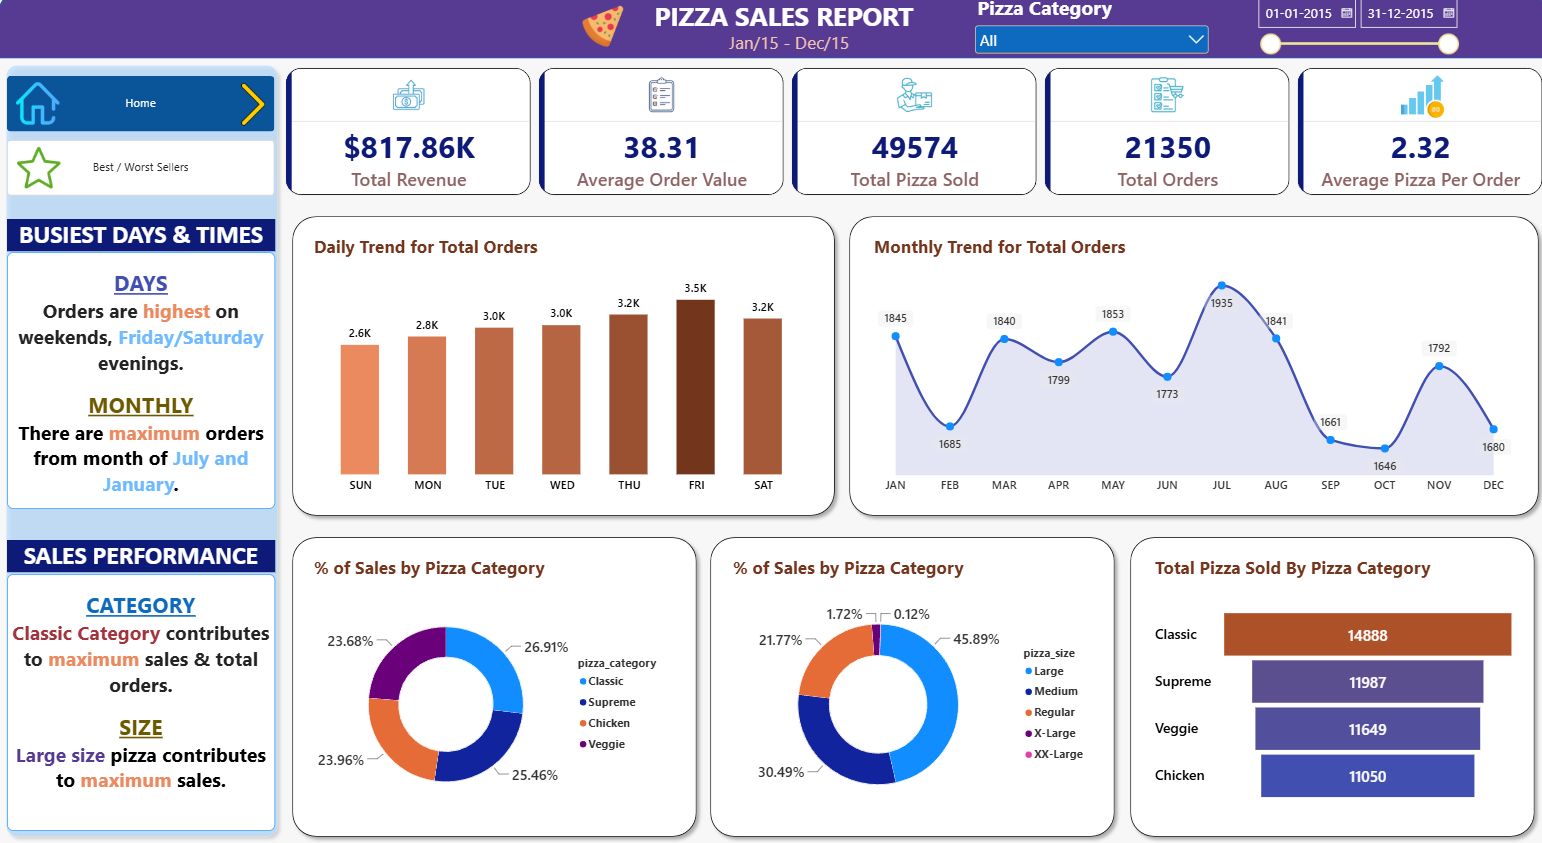

Layout of this report page (visuals, bound fields, positions):
{"tool":"powerbi","page":{"name":"Home","canvas":[1920,1080],"ordinal":0},"visuals":[{"type":"shape","box":[0,79.4,354.6,975.4],"z":0},{"type":"textbox","box":[10,0,280,280],"z":1000},{"type":"shape","box":[0,0,1920,80],"z":2000},{"type":"textbox","box":[800,4.4,350.2,46.7],"z":3000},{"type":"image","box":[714.9,13.1,68.6,52.5],"z":4000},{"type":"cardVisual","fields":{"Data":["KPIS.Total Revenue","KPIS.Average Order Value","KPIS.Total Pizza Sold","KPIS.Total Orders","KPIS.Average Pizza Per Order"]},"box":[354.5,90.5,1565.5,160.5],"z":5000},{"type":"shape","box":[354.6,266.3,691.5,389.9],"z":6000},{"type":"columnChart","title":"Daily Trend for Total Orders","fields":{"Category":["pizza_sales.Order Day"],"Y":["KPIS.Total Orders"]},"box":[375.2,284,648.8,356],"z":7000},{"type":"shape","box":[1046.1,266.3,873.9,389.9],"z":8000},{"type":"areaChart","title":"Monthly Trend for Total Orders","fields":{"Category":["pizza_sales.Order Month"],"Y":["KPIS.Total Orders"]},"box":[1069.6,284,828.3,356],"z":9000},{"type":"shape","box":[354.6,665,520,389.9],"z":10000},{"type":"shape","box":[873.9,665,520,389.9],"z":11000},{"type":"shape","box":[1394.8,665,520,389.9],"z":12000},{"type":"donutChart","title":"% of Sales by Pizza Category","fields":{"Category":["pizza_sales.pizza_category"],"Y":["KPIS.Total Revenue"]},"box":[375.2,682.7,479.6,356],"z":13000},{"type":"donutChart","title":"% of Sales by Pizza Category","fields":{"Category":["pizza_sales.pizza_size"],"Y":["KPIS.Total Revenue"]},"box":[894.5,682.7,479.6,356],"z":14000},{"type":"funnel","title":"Total Pizza Sold By Pizza Category","fields":{"Category":["pizza_sales.pizza_category"],"Y":["KPIS.Total Pizza Sold"]},"box":[1418.3,682.7,479.6,356],"z":15000},{"type":"textbox","box":[906.3,44.1,300.1,39.7],"z":16000},{"type":"textbox","box":[10.3,279.5,332.5,39.7],"z":17000},{"type":"textbox","box":[10.3,320.7,332.5,319.3],"z":18000},{"type":"textbox","box":[10.3,678.3,332.5,39.7],"z":19000},{"type":"textbox","box":[10.3,719.4,332.5,319.3],"z":20000},{"type":"slicer","fields":{"Values":["pizza_sales.pizza_category"]},"box":[1206.4,0,300.1,79.4],"z":21000},{"type":"slicer","fields":{"Values":["pizza_sales.order_date"]},"box":[1555.1,0,260.4,79.4],"z":22000},{"type":"pageNavigator","box":[10.3,101.5,332.5,69.1],"z":22001},{"type":"pageNavigator","box":[10.3,181,332.5,69.1],"z":22002},{"type":"image","box":[288.4,110.3,54.4,53],"z":22003},{"type":"image","box":[20.6,104.5,54.4,63.3],"z":22004},{"type":"image","box":[22.1,157.4,54.4,116.2],"z":22005}]}

Visuals, with their boxes in screenshot pixels (x1, y1, x2, y2), scaled from the page's 1920x1080 canvas onto the 1542x843 screenshot:
shape: [x1=0, y1=62, x2=285, y2=823]
textbox: [x1=8, y1=0, x2=233, y2=219]
shape: [x1=0, y1=0, x2=1541, y2=62]
textbox: [x1=642, y1=3, x2=924, y2=40]
image: [x1=574, y1=10, x2=629, y2=51]
cardVisual - KPIS.Total Revenue x KPIS.Average Order Value: [x1=285, y1=71, x2=1541, y2=196]
shape: [x1=285, y1=208, x2=840, y2=512]
"Daily Trend for Total Orders" columnChart: [x1=301, y1=222, x2=822, y2=500]
shape: [x1=840, y1=208, x2=1541, y2=512]
"Monthly Trend for Total Orders" areaChart: [x1=859, y1=222, x2=1524, y2=500]
shape: [x1=285, y1=519, x2=702, y2=823]
shape: [x1=702, y1=519, x2=1119, y2=823]
shape: [x1=1120, y1=519, x2=1538, y2=823]
"% of Sales by Pizza Category" donutChart: [x1=301, y1=533, x2=687, y2=811]
"% of Sales by Pizza Category" donutChart: [x1=718, y1=533, x2=1104, y2=811]
"Total Pizza Sold By Pizza Category" funnel: [x1=1139, y1=533, x2=1524, y2=811]
textbox: [x1=728, y1=34, x2=969, y2=65]
textbox: [x1=8, y1=218, x2=275, y2=249]
textbox: [x1=8, y1=250, x2=275, y2=500]
textbox: [x1=8, y1=529, x2=275, y2=560]
textbox: [x1=8, y1=562, x2=275, y2=811]
slicer - pizza_sales.pizza_category: [x1=969, y1=0, x2=1210, y2=62]
slicer - pizza_sales.order_date: [x1=1249, y1=0, x2=1458, y2=62]
pageNavigator: [x1=8, y1=79, x2=275, y2=133]
pageNavigator: [x1=8, y1=141, x2=275, y2=195]
image: [x1=232, y1=86, x2=275, y2=127]
image: [x1=17, y1=82, x2=60, y2=131]
image: [x1=18, y1=123, x2=61, y2=214]
